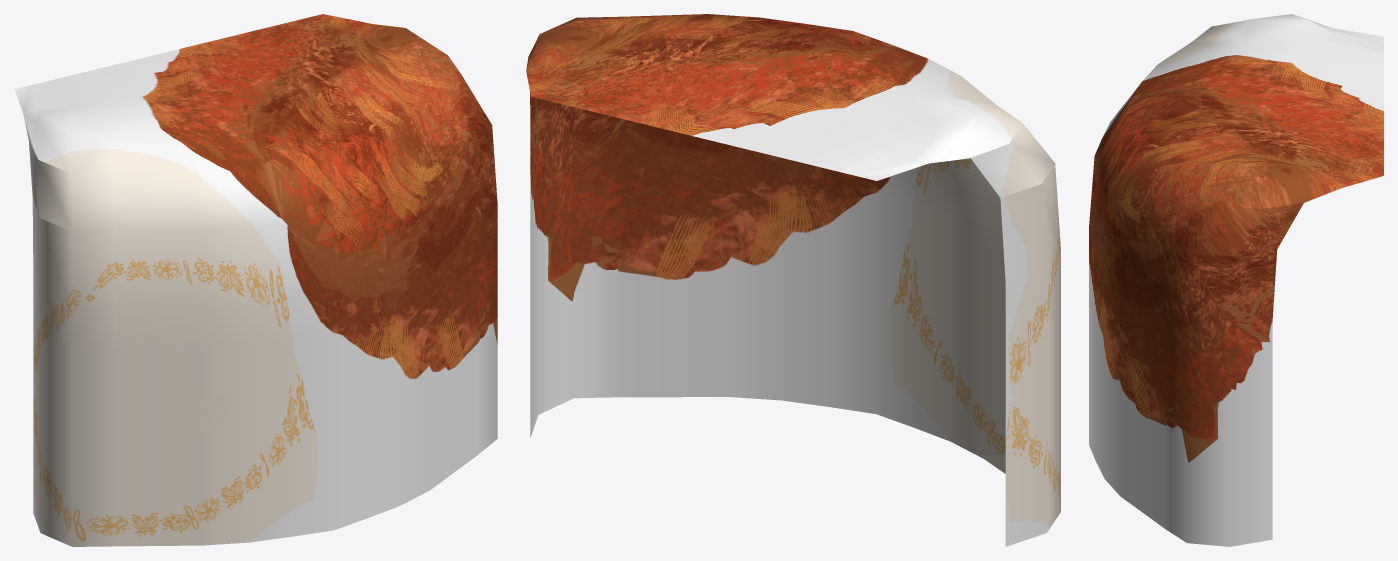
Rendered from waterfallmesh.obj.
3 views of the same model, side by side, from view 1: azimuth 30°, elevation 25°; view 2: azimuth 150°, elevation 25°; view 3: azimuth 270°, elevation 25° (orthographic). The views are drawn at different scales.
Visible parts, largest first — view 1: pPlane1; view 2: pPlane1; view 3: pPlane1.
Boxes of the visible parts, x1=… form: pPlane1: x1=14, y1=14, x2=497, y2=546; pPlane1: x1=526, y1=14, x2=1060, y2=546; pPlane1: x1=1089, y1=14, x2=1383, y2=546.
Size of the model in its own units: 1.19 by 0.9504 by 0.7328.
